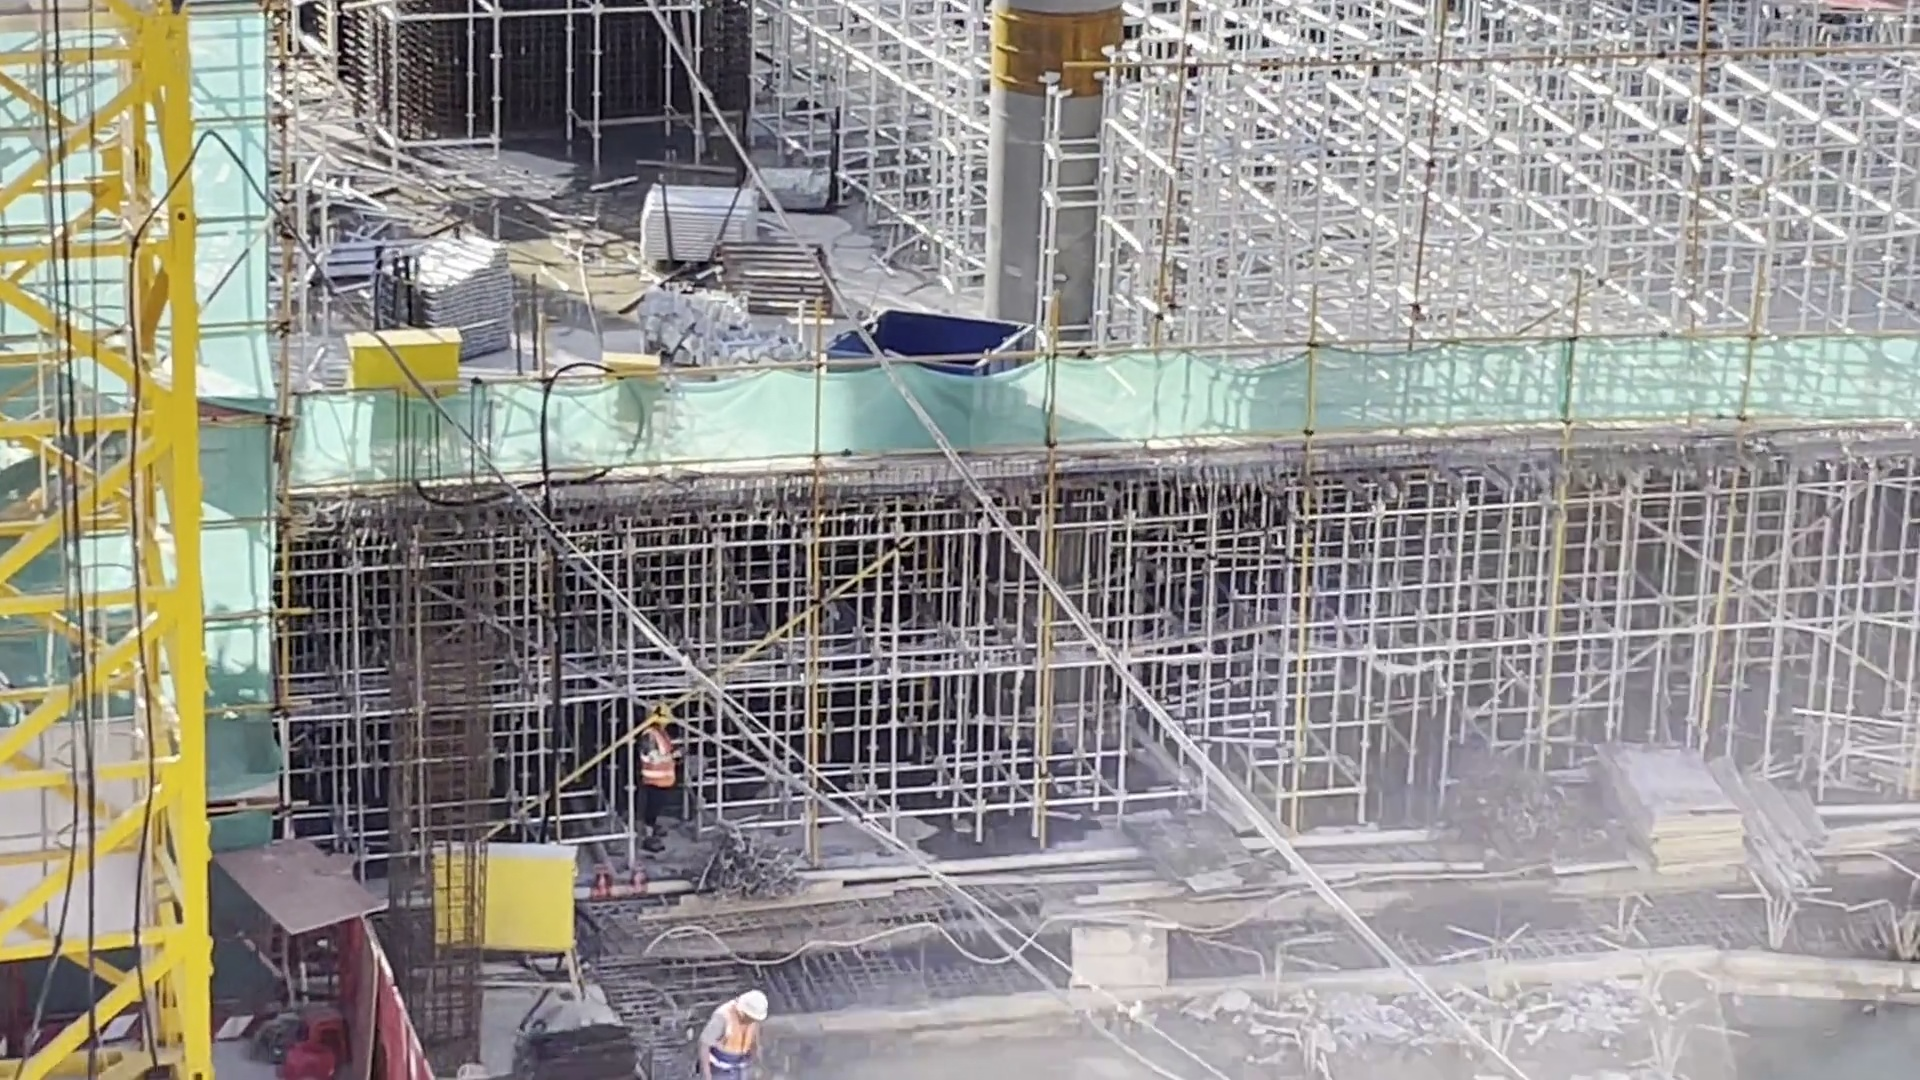board: (1616, 754, 1763, 937)
ebox: (428, 836, 553, 961), (358, 334, 511, 426), (599, 369, 659, 439)
fence: (343, 929, 414, 1080)
helmet: (643, 692, 683, 726), (744, 992, 773, 1024)
hopper: (843, 302, 1058, 421)
person: (686, 971, 755, 1080), (634, 696, 683, 850)
scaffold: (321, 241, 558, 369), (629, 177, 749, 279)
vest: (709, 1009, 748, 1062), (639, 734, 664, 789)
